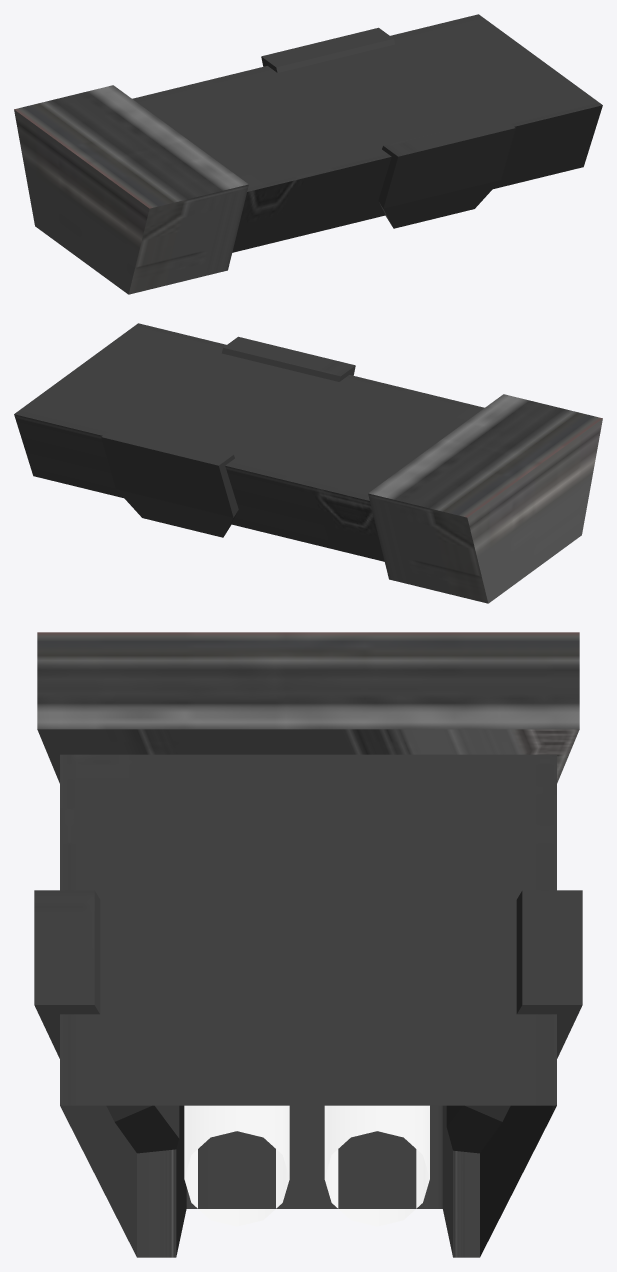
File: sf_light_small.glb
3 renders of one model, top to bottom at view 1: azimuth 30°, elevation 25°; view 2: azimuth 150°, elevation 25°; view 3: azimuth 270°, elevation 25°, orthographic. The views are drawn at different scales.
Visible parts, largest first — view 1: Prop_Light_Small; view 2: Prop_Light_Small; view 3: Prop_Light_Small.
Boxes of the visible parts, x1,y1,x2,y2 form: Prop_Light_Small: (14, 14, 602, 294); Prop_Light_Small: (14, 323, 602, 603); Prop_Light_Small: (34, 632, 582, 1257).
Size of the model in its own units: 0.8609 by 0.1819 by 0.4453.
2 materials, 1 textured.
